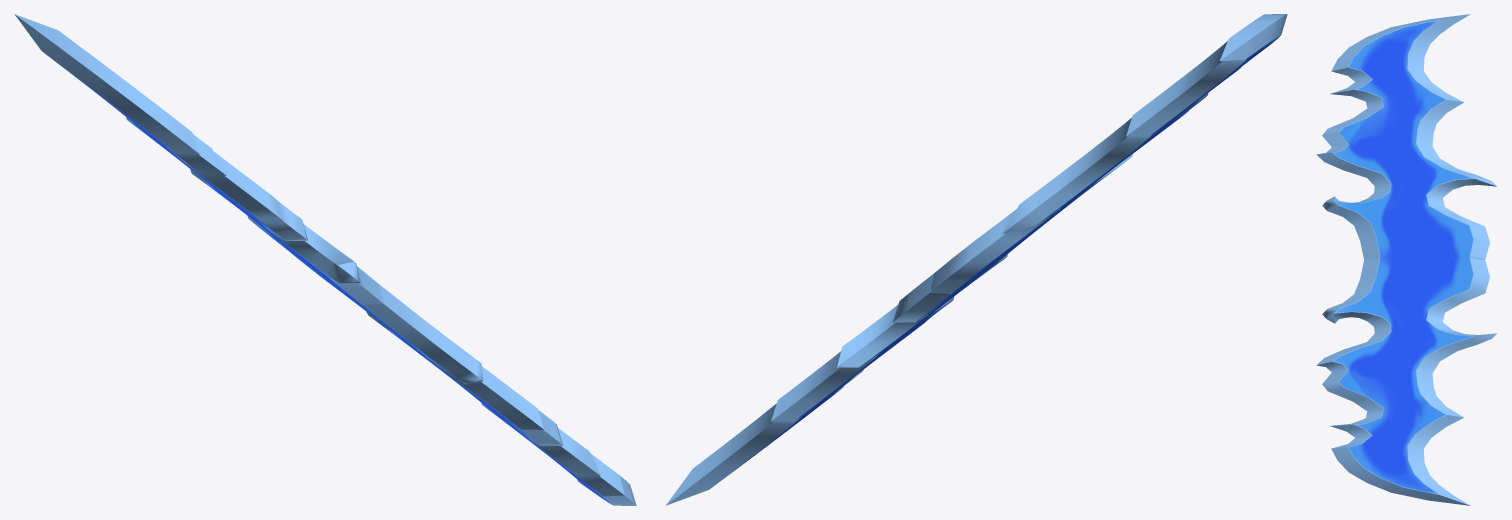
Rendered from Upper_Bullet.fbx.
The picture shows the model from 3 angles, left to right: view 1: azimuth 30°, elevation 25°; view 2: azimuth 150°, elevation 25°; view 3: azimuth 270°, elevation 25°; orthographic projection. The views are drawn at different scales.
Visible parts, largest first — view 1: SM_DS_Dragon_Weapon; view 2: SM_DS_Dragon_Weapon; view 3: SM_DS_Dragon_Weapon.
Part boxes in pixels (x1,y1,x2,y2): SM_DS_Dragon_Weapon: (14,14,636,505); SM_DS_Dragon_Weapon: (665,14,1287,505); SM_DS_Dragon_Weapon: (1316,14,1497,505).
Bounding box in the file's own units: 1.39 × 1.39 × 0.6804.
